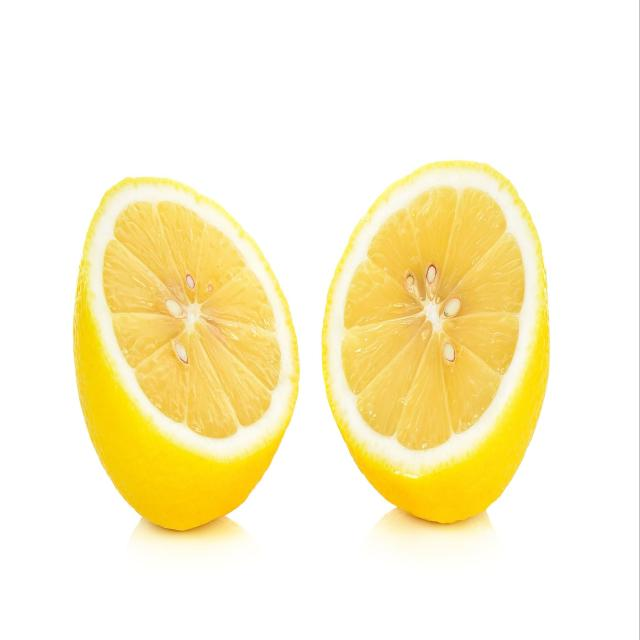lemon: (318, 154, 553, 532), (71, 173, 304, 537)
